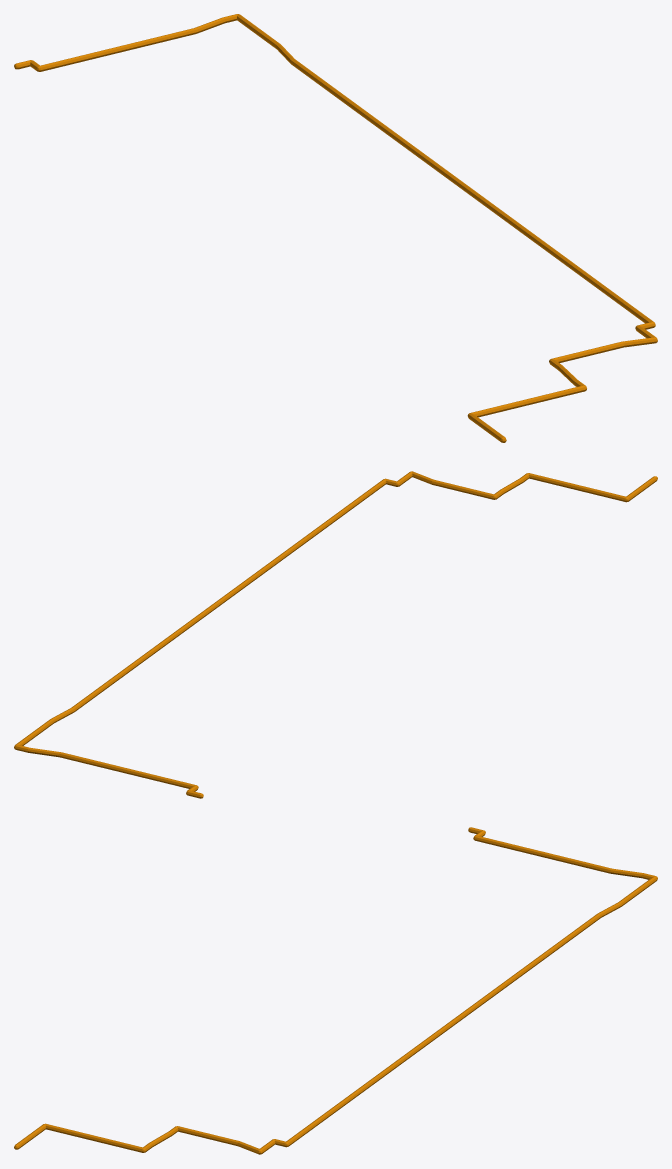
3 views of the same model, one above another, from view 1: azimuth 30°, elevation 25°; view 2: azimuth 150°, elevation 25°; view 3: azimuth 330°, elevation 25° (orthographic). The views are drawn at different scales.
Bounding box in the file's own units: 848 × 20 × 3105.
